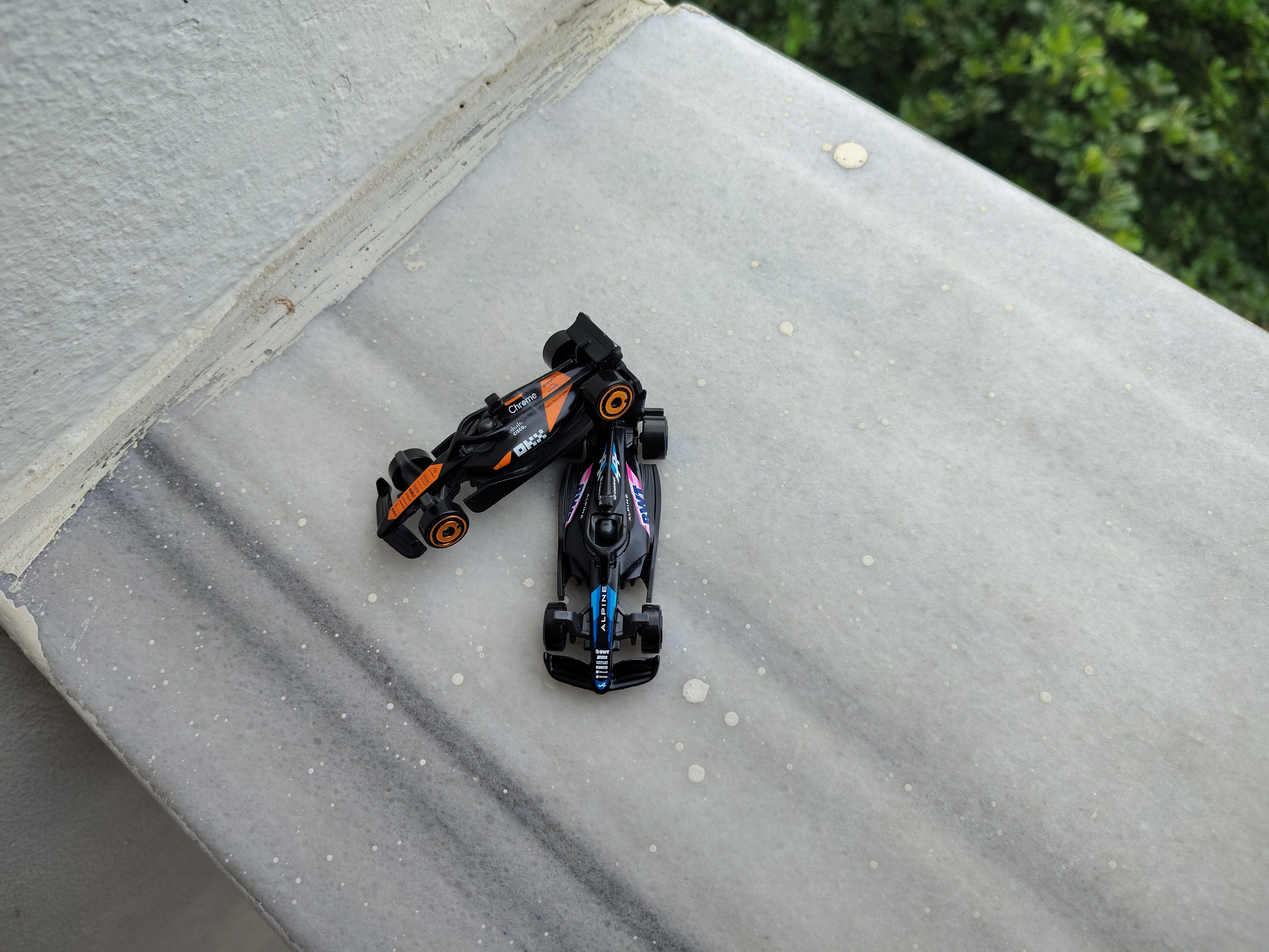Alpine A524: (544, 380, 666, 694)
McLaren MCL40: (297, 271, 646, 521)
